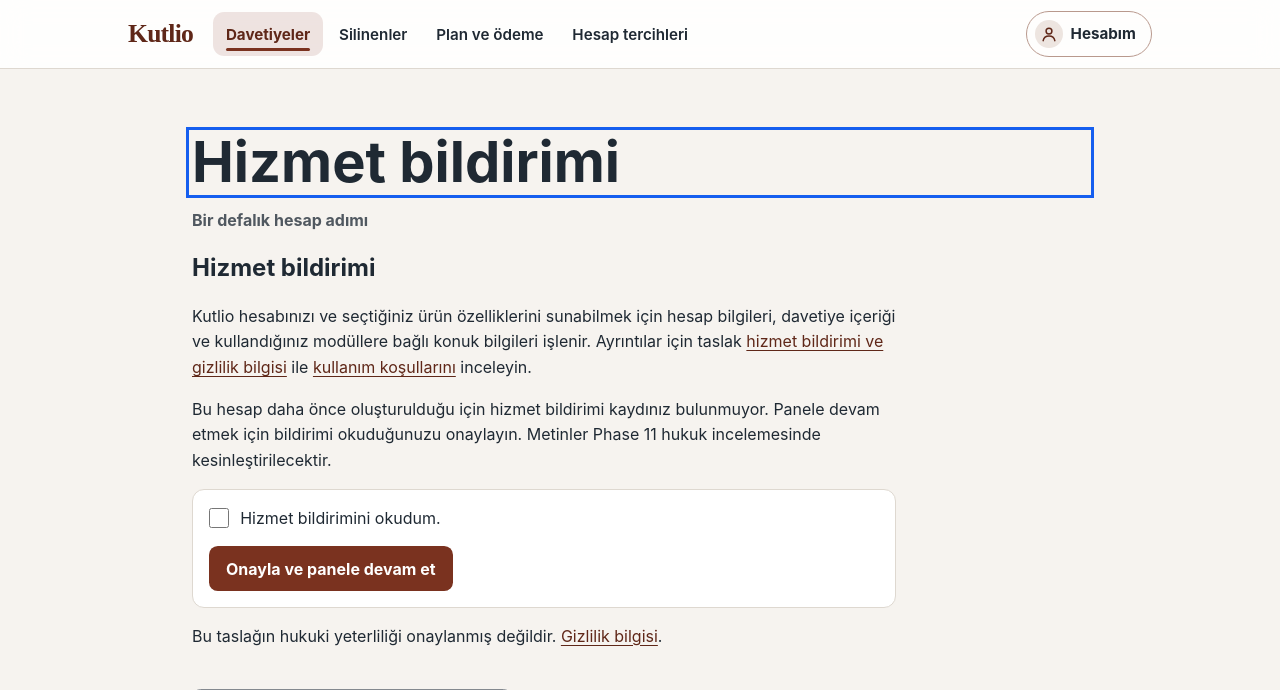
Scenario: App › gates an existing Creator on explicit service-notice acknowledgement until the server accepts it
This screenshot has width=1280, height=690.
Expected: the 1st heading "Hizmet bildirimi" is shown, x1=192 y1=128 x2=620 y2=196
Expected: the heading "Davetiye taslakları" is not shown
Submit the form "Onayla ve panele devam et", box x1=192 y1=489 x2=896 y2=608
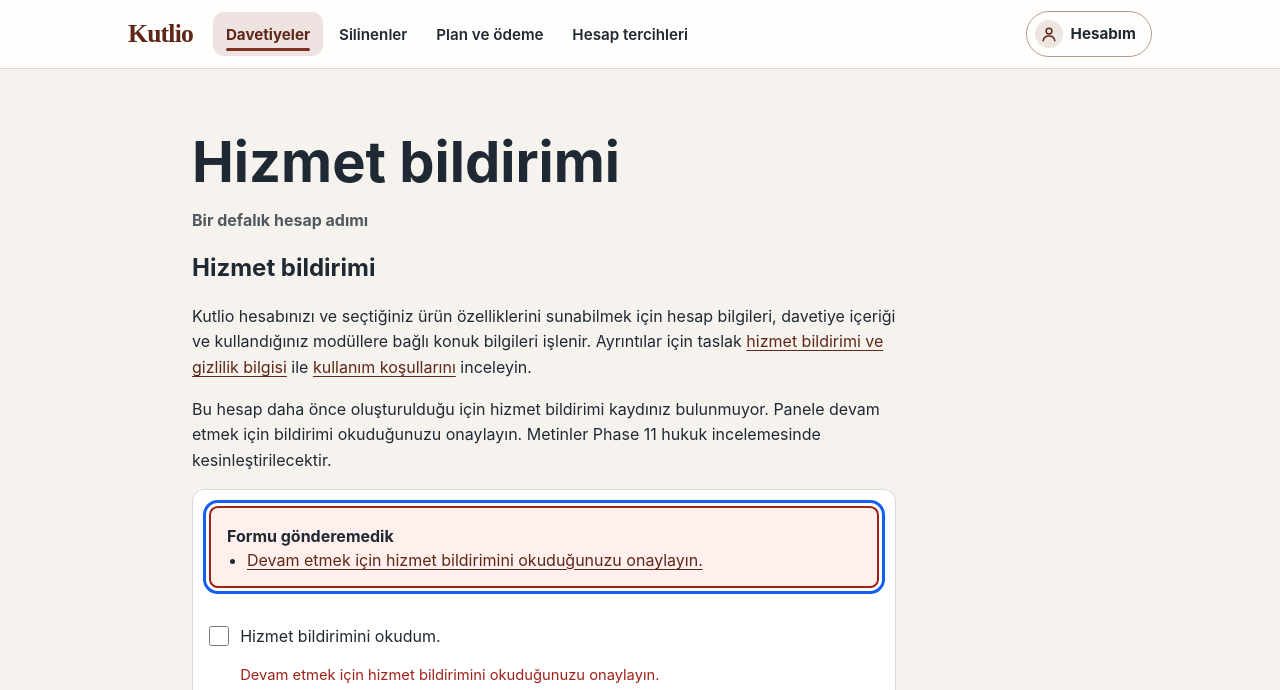
Now the message "Formu gönderemedik Devam etmek için hizmet bildirimini okuduğunuzu onaylayın." is shown, box x1=209 y1=506 x2=879 y2=588
Click the checkbox labelled "Hizmet bildirimini okudum." at (219, 636), box x1=209 y1=626 x2=229 y2=646
(page scrolled)
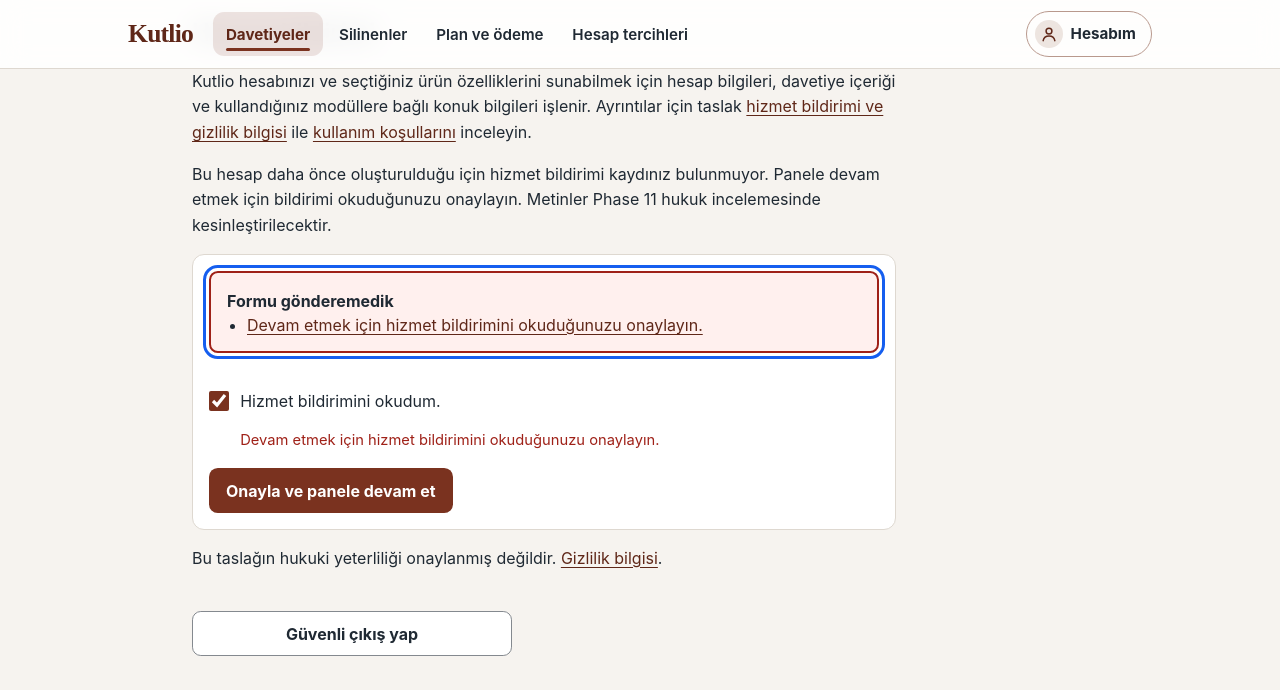
Click the button "Onayla ve panele devam et" at (331, 491), box x1=209 y1=468 x2=452 y2=513
(page scrolled)
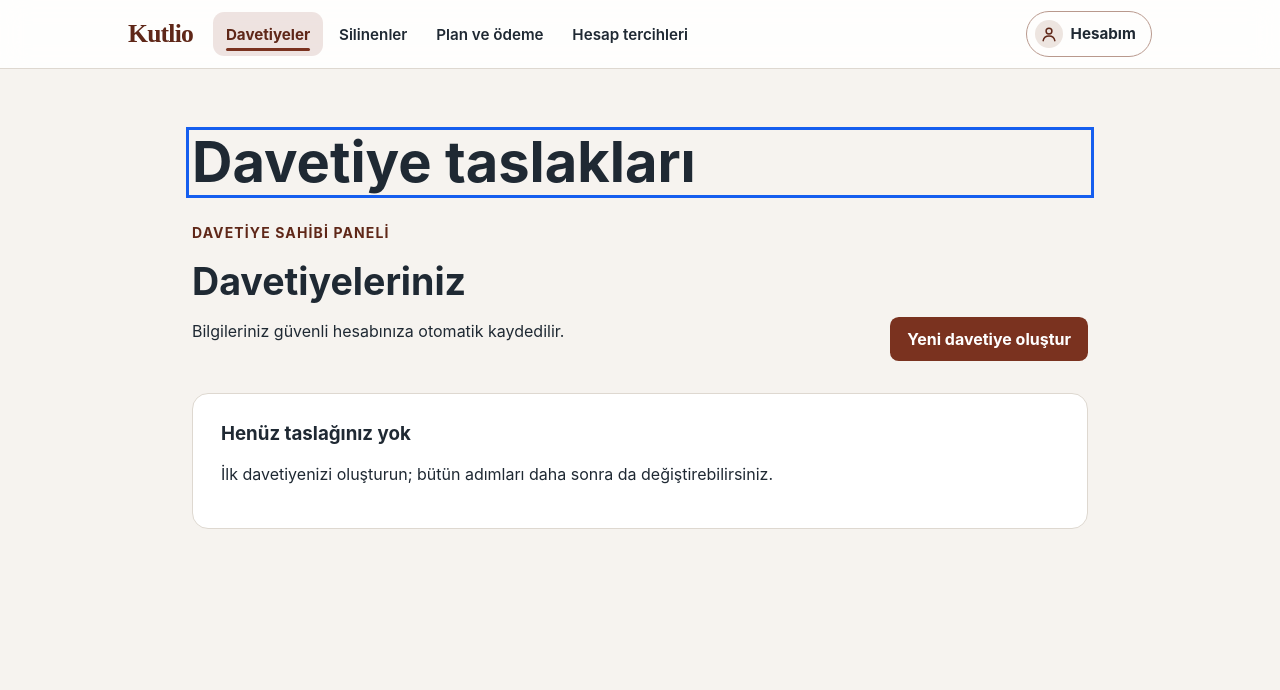
Now the heading "Davetiye taslakları" is shown, box x1=192 y1=128 x2=696 y2=196
